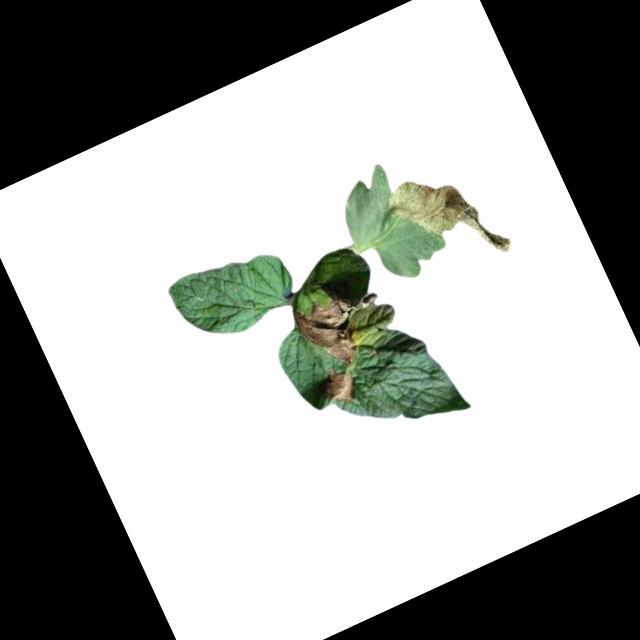Late_blight: (379, 150, 516, 292), (288, 271, 400, 377), (317, 363, 367, 412)
